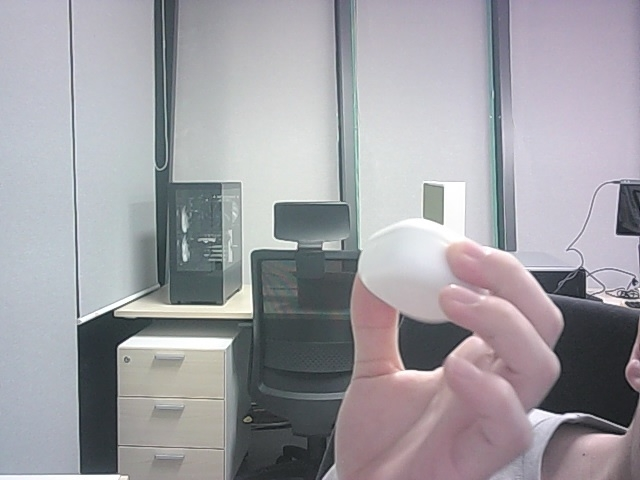case: (357, 219, 462, 323)
